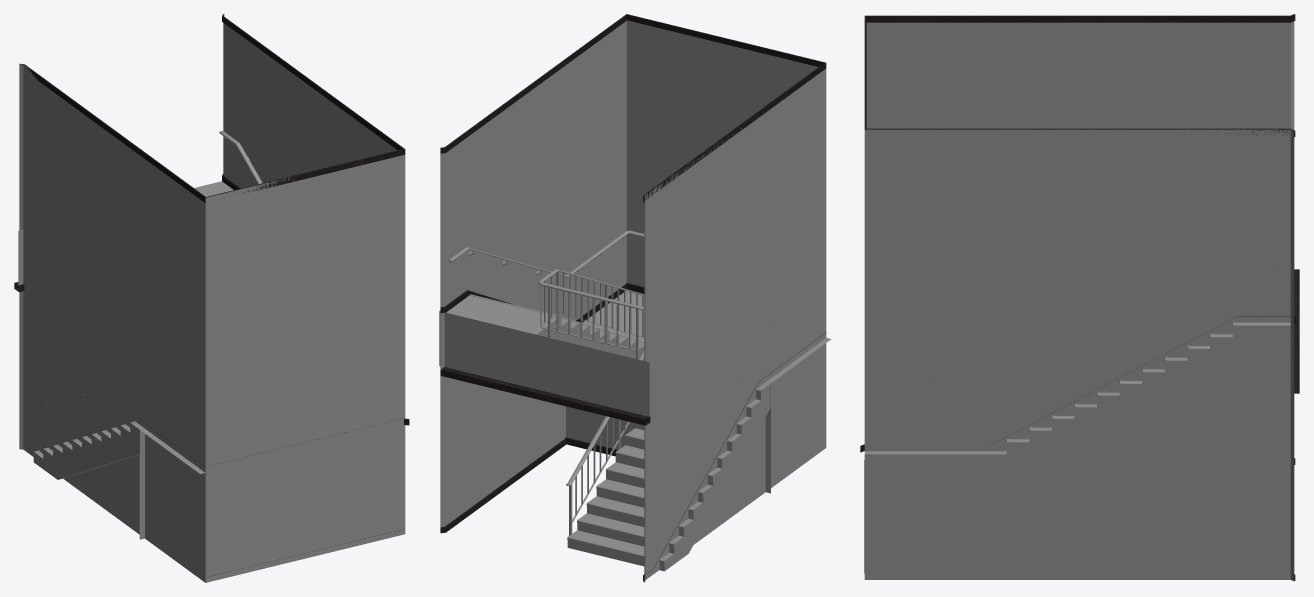
File: Stairs_TwoFloors.FBX
3 renders of one model, left to right at view 1: azimuth 30°, elevation 25°; view 2: azimuth 150°, elevation 25°; view 3: azimuth 270°, elevation 25°, orthographic. The views are drawn at different scales.
Parts seen in each view (by area): view 1: Stairs_TwoFloors; view 2: Stairs_TwoFloors, Stairs_RailingInside_Top, Stairs_StepProtectors, Stairs_RailingOutside; view 3: Stairs_TwoFloors.
Part boxes in pixels (x1,y1,x2,y2): Stairs_TwoFloors: (14, 14, 409, 582); Stairs_TwoFloors: (439, 14, 831, 582); Stairs_RailingInside_Top: (538, 269, 644, 535); Stairs_StepProtectors: (470, 294, 761, 563); Stairs_RailingOutside: (448, 230, 772, 438); Stairs_TwoFloors: (860, 14, 1299, 580).
Size of the model in its own units: 400 by 700 by 619.
